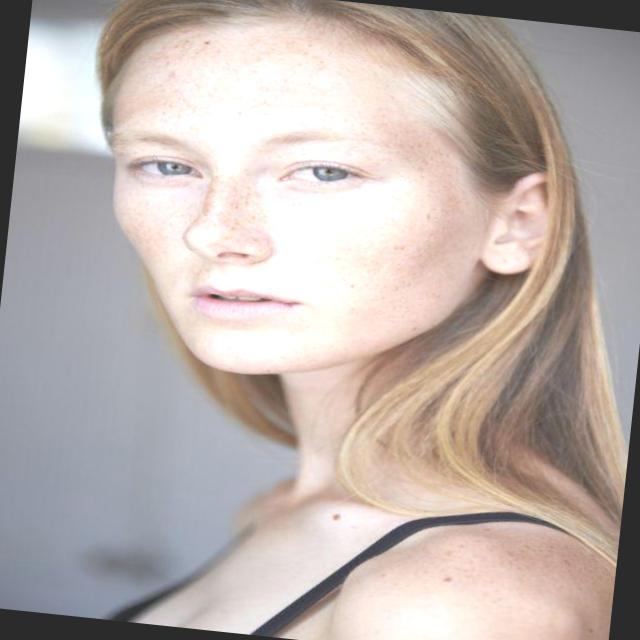freckle: (134, 30, 423, 147), (350, 193, 474, 332), (135, 174, 270, 257), (385, 126, 455, 197)
